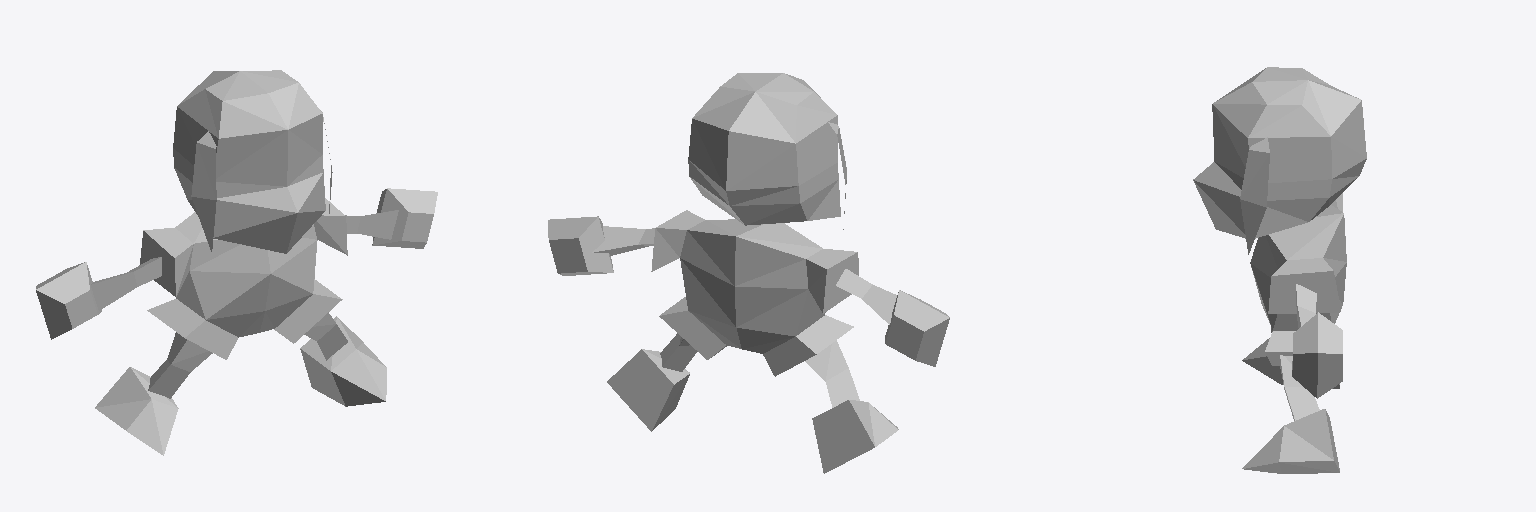
The model's file is fitness girl.obj.
3 views of the same model, side by side, from view 1: azimuth 30°, elevation 25°; view 2: azimuth 150°, elevation 25°; view 3: azimuth 270°, elevation 25° (orthographic).
Visible parts, largest first — view 1: Cube, Cube.003, Cube.006_Cube.007, Cube.002_Cube.006, Cube.004, Cube.005, Plane_Plane.001; view 2: Cube.003, Cube, Cube.006_Cube.007, Cube.002_Cube.006, Cube.004, Cube.005; view 3: Cube, Cube.003, Cube.006_Cube.007, Cube.002_Cube.006, Plane_Plane.001, Cube.004, Cube.005.
Boxes of the visible parts, x1,y1,x2,y2 form: Cube: [173, 70, 325, 253]; Cube.003: [140, 198, 347, 359]; Cube.006_Cube.007: [95, 316, 386, 455]; Cube.002_Cube.006: [36, 188, 437, 339]; Cube.004: [148, 312, 347, 398]; Cube.005: [91, 210, 398, 310]; Plane_Plane.001: [191, 110, 332, 251]; Cube.003: [651, 210, 858, 376]; Cube: [688, 73, 840, 225]; Cube.006_Cube.007: [607, 349, 898, 473]; Cube.002_Cube.006: [548, 216, 949, 366]; Cube.004: [660, 333, 859, 407]; Cube.005: [592, 226, 896, 324]; Cube: [1193, 67, 1366, 238]; Cube.003: [1250, 200, 1346, 365]; Cube.006_Cube.007: [1242, 338, 1339, 473]; Cube.002_Cube.006: [1292, 193, 1342, 398]; Plane_Plane.001: [1240, 137, 1269, 254]; Cube.004: [1279, 355, 1319, 420]; Cube.005: [1296, 284, 1316, 327].
Bounding box in the file's own units: 9.56 × 7.94 × 3.58.